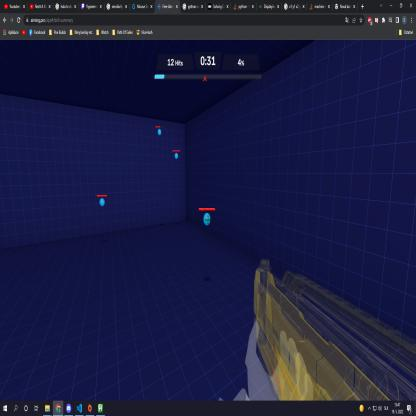sphere: (204, 212, 210, 225), (100, 198, 105, 208), (174, 152, 179, 160), (158, 128, 162, 136)
